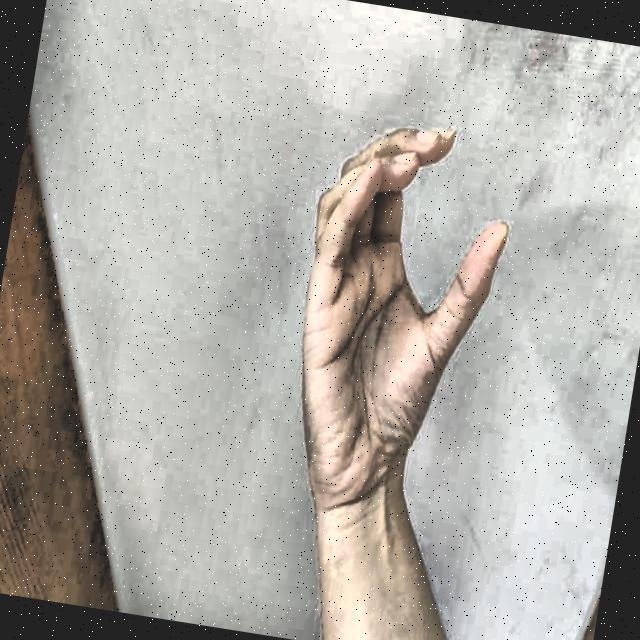A: (237, 86, 550, 540)
